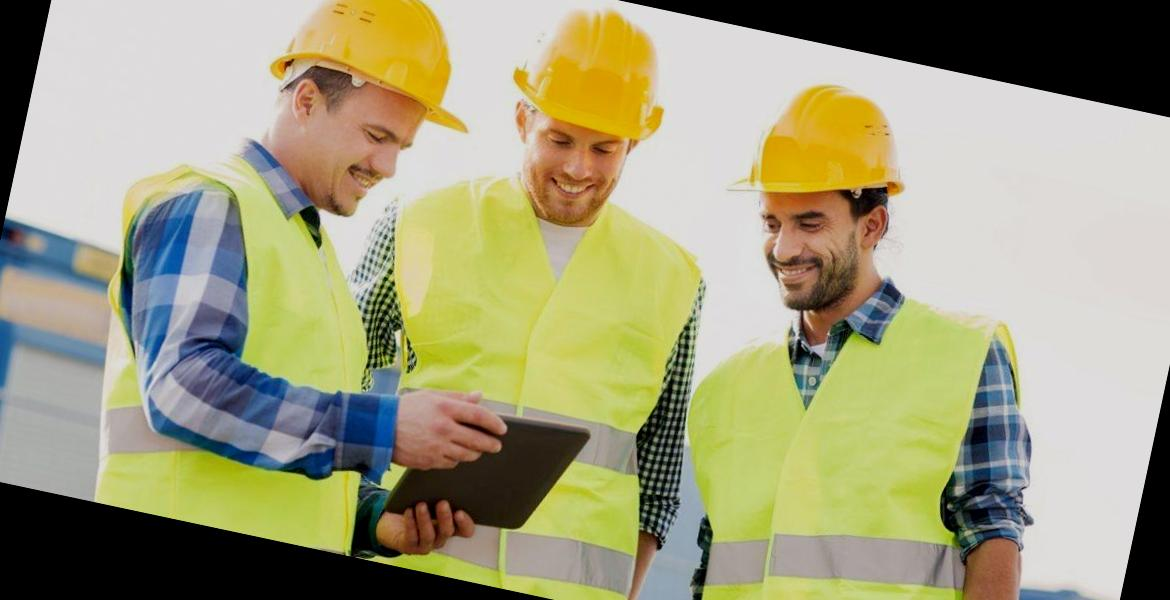helmet: (254, 0, 507, 146), (730, 68, 926, 224), (496, 0, 689, 155)
person: (638, 59, 1110, 600), (356, 0, 780, 600), (59, 0, 481, 558)
